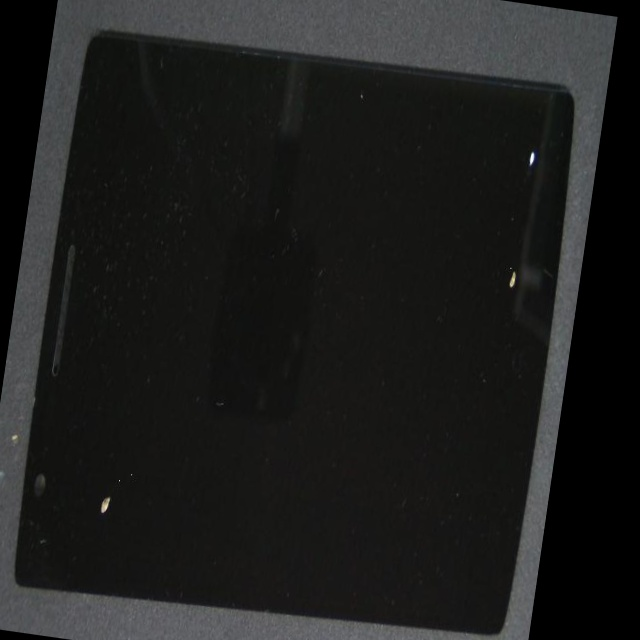stain: (246, 79, 602, 418), (15, 192, 189, 640), (292, 25, 610, 211)
